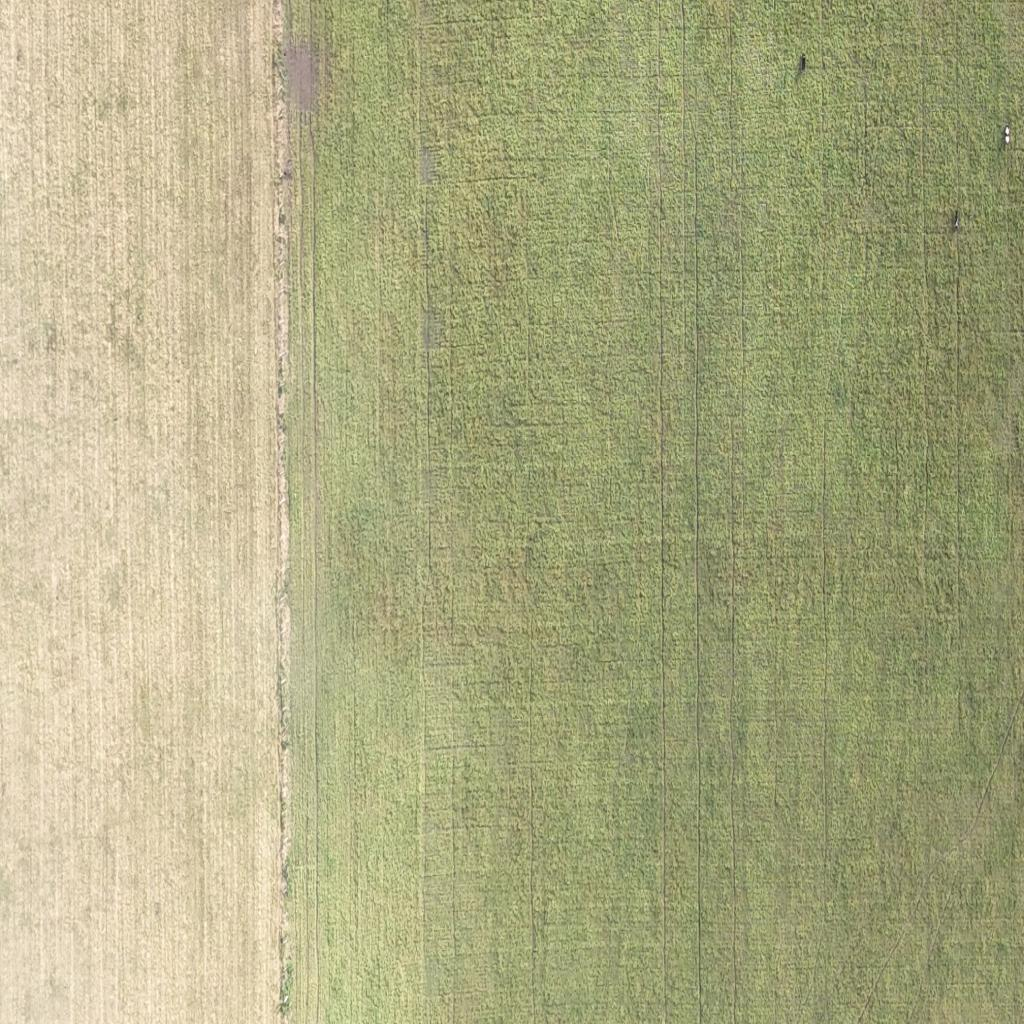cow: (952, 211, 960, 232), (800, 53, 806, 73), (1004, 125, 1010, 145)
